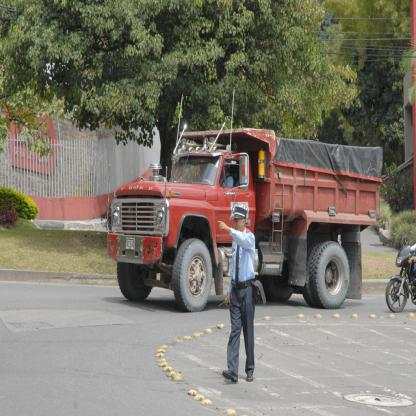Truck: (102, 83, 386, 316)
